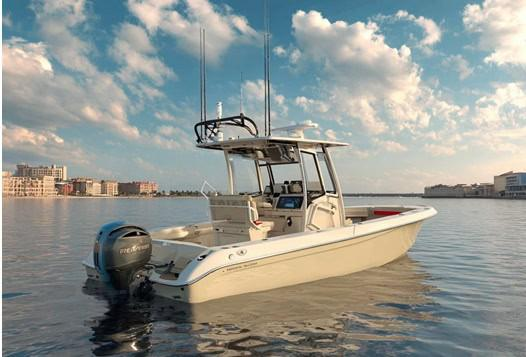fishing boat: (78, 22, 442, 306)
